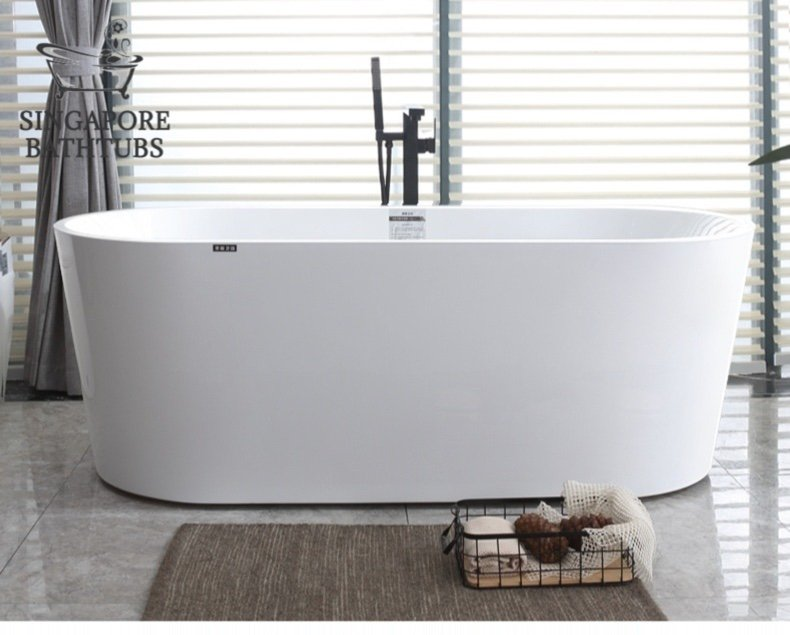bathub: (38, 180, 776, 519)
